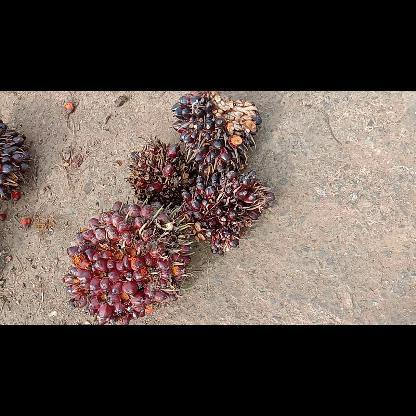TBS abnormal: (184, 171, 276, 255), (172, 93, 260, 179), (128, 140, 188, 204)
TBS masak: (64, 202, 190, 324)
